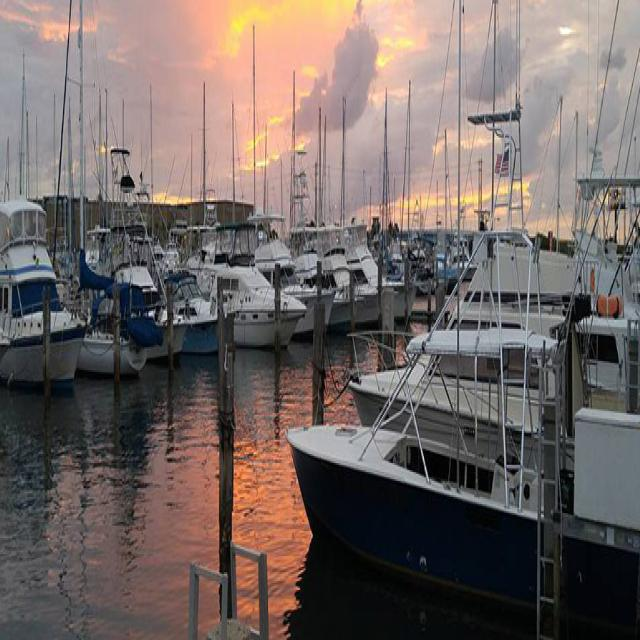houseboat: (274, 328, 562, 610), (0, 206, 76, 394), (190, 217, 281, 344), (78, 231, 155, 353), (164, 230, 222, 360)
